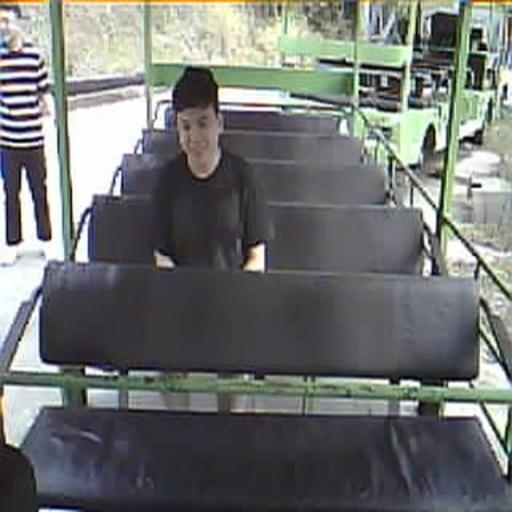persona: (151, 65, 273, 273)
